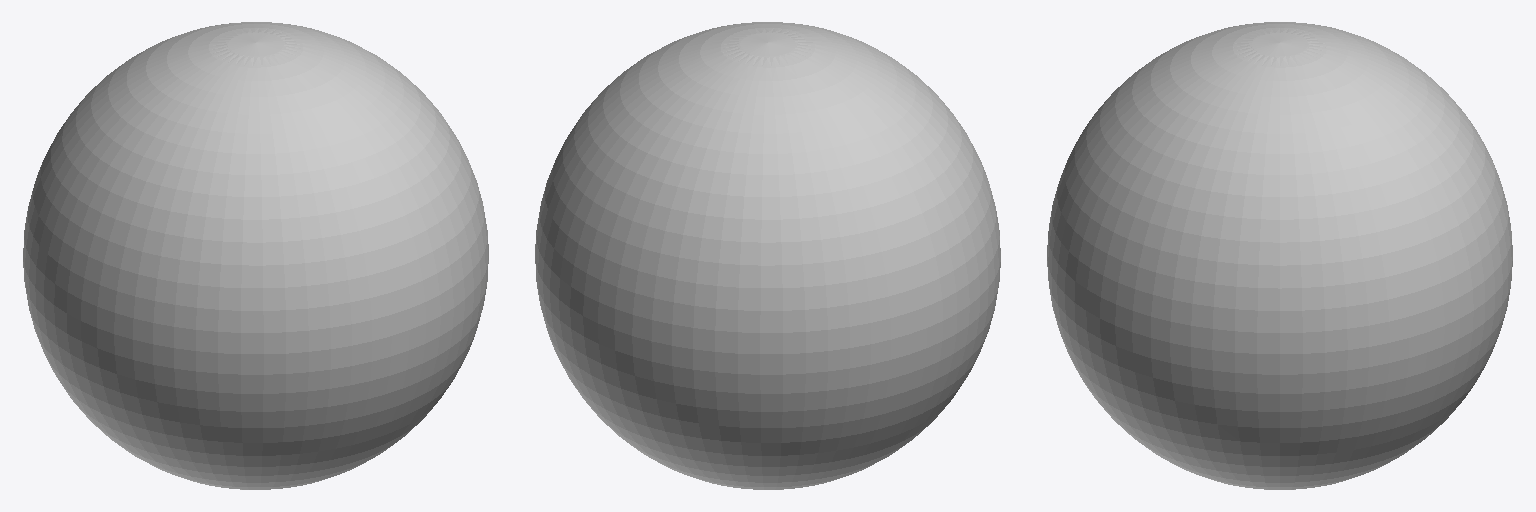
File: unitsphere.obj
3 renders of one model, left to right at view 1: azimuth 30°, elevation 25°; view 2: azimuth 150°, elevation 25°; view 3: azimuth 270°, elevation 25°, orthographic.
Parts seen in each view (by area): view 1: Sphere.001; view 2: Sphere.001; view 3: Sphere.001.
Boxes of the visible parts, x1=… form: Sphere.001: x1=23, y1=22, x2=488, y2=489; Sphere.001: x1=535, y1=22, x2=1000, y2=489; Sphere.001: x1=1047, y1=22, x2=1512, y2=489.
Size of the model in its own units: 0.9872 by 0.9976 by 0.9872.